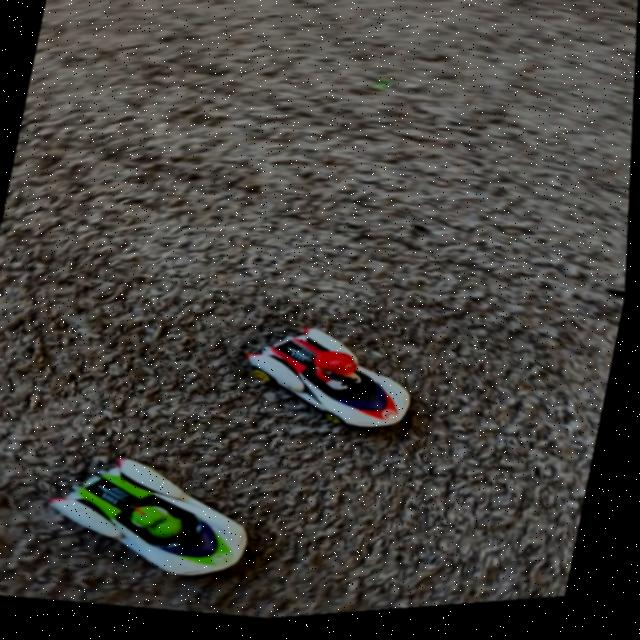mario: (225, 306, 450, 463)
yoshi: (26, 422, 289, 614)
